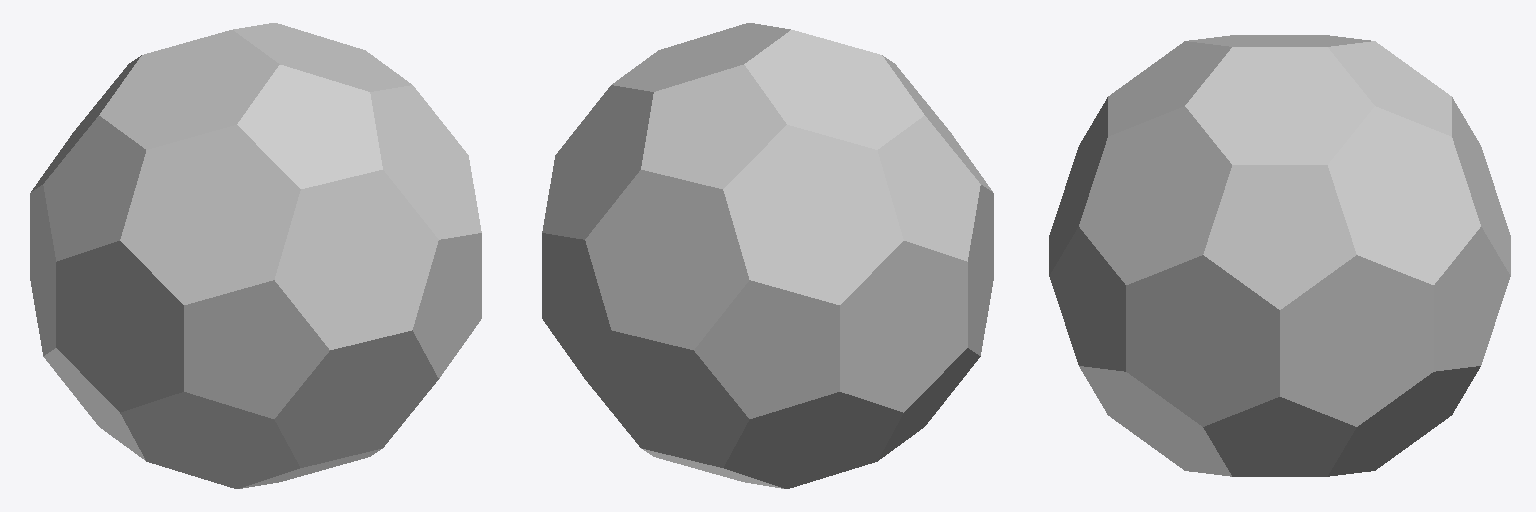
Rendered from buckyball.obj.
3 renders of one model, left to right at view 1: azimuth 30°, elevation 25°; view 2: azimuth 150°, elevation 25°; view 3: azimuth 270°, elevation 25°, orthographic.
Parts seen in each view (by area): view 1: buckyball; view 2: buckyball; view 3: buckyball.
Part boxes in pixels (bbox=[...]): buckyball: bbox=[30, 23, 481, 488]; buckyball: bbox=[542, 23, 993, 488]; buckyball: bbox=[1049, 35, 1510, 476].
Size of the model in its own units: 4.85 by 4.85 by 4.85.